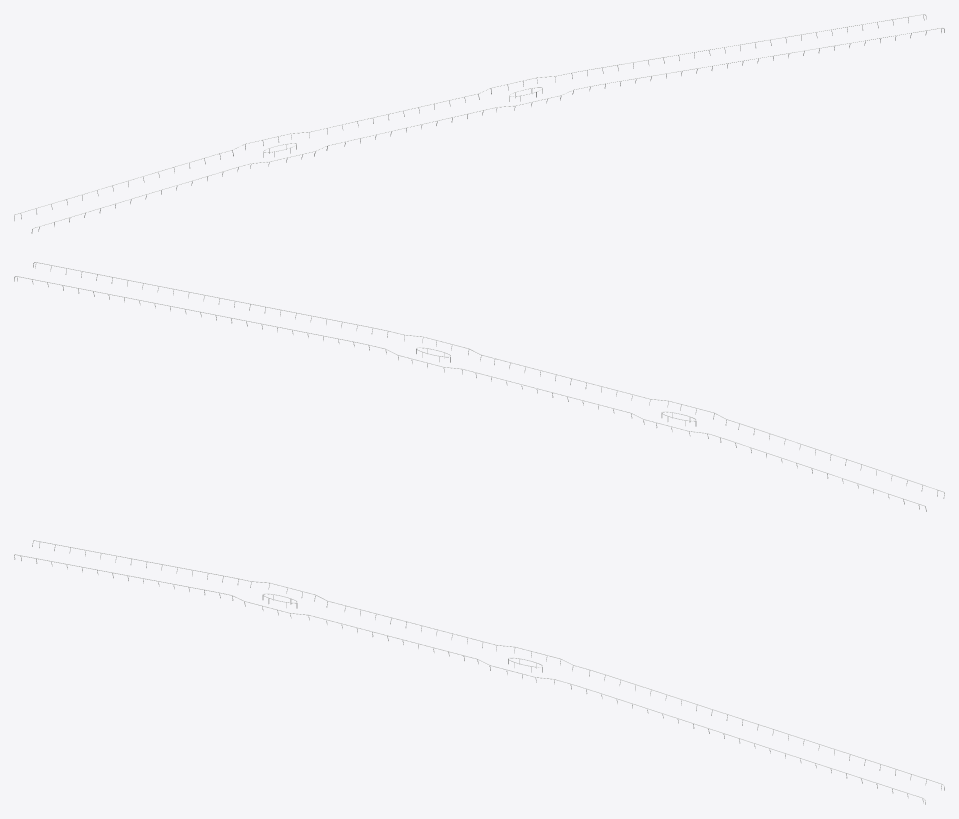
Rendered from SM_Ponte_Parapetti_LOD2.fbx.
The picture shows the model from 3 angles, top to bottom: view 1: azimuth 30°, elevation 25°; view 2: azimuth 150°, elevation 25°; view 3: azimuth 330°, elevation 25°; orthographic projection. The views are drawn at different scales.
Visible parts, largest first — view 1: SM_Ponte_Parapetti_LOD2; view 2: SM_Ponte_Parapetti_LOD2; view 3: SM_Ponte_Parapetti_LOD2.
Boxes of the visible parts, x1,y1,x2,y2 form: SM_Ponte_Parapetti_LOD2: (14,14,944,233); SM_Ponte_Parapetti_LOD2: (14,262,944,511); SM_Ponte_Parapetti_LOD2: (14,540,944,804).
Bounding box in the file's own units: 17893 × 1170 × 541.
Materials: 1 (1 with a texture image).
